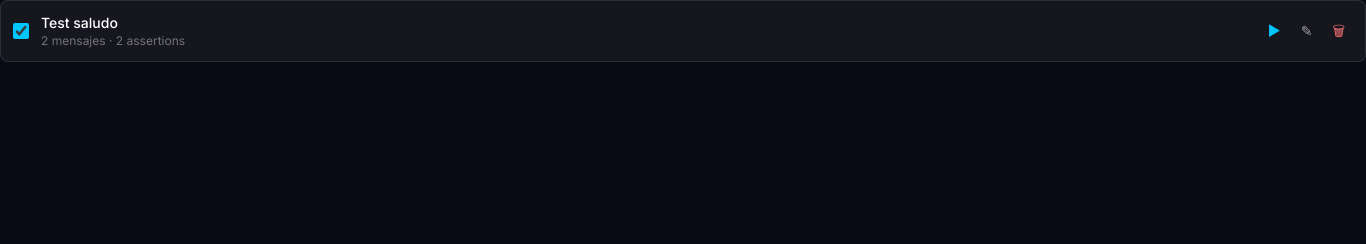
Test: TestList › Expansión › al hacer click en el nombre expande los detalles
Check: the text "Verifica que el bot saluda" is not shown
# Click en el nombre
Step 1. Click the text "Test saludo" → click(79, 22), box [41,14,118,31]
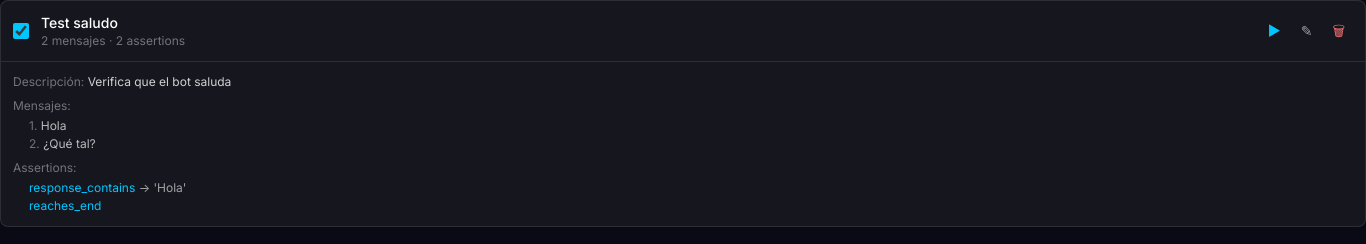
Check: the text "Verifica que el bot saluda" is shown, box [88,74,231,89]
